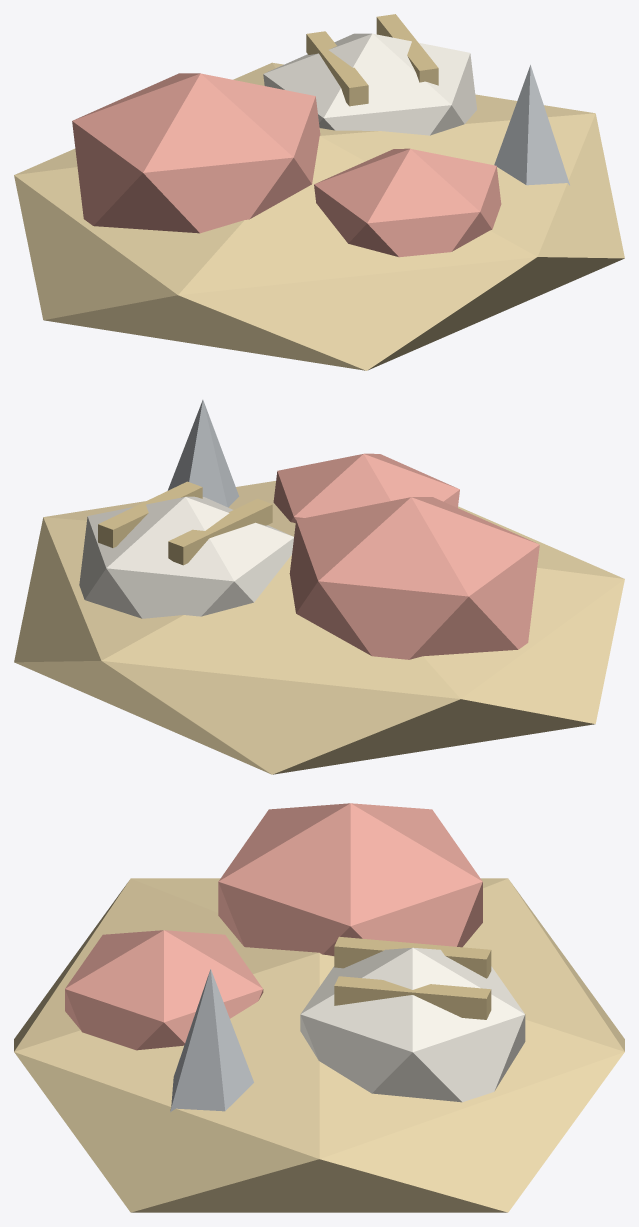
File: shell_cluster.glb
3 views of the same model, one above another, from view 1: azimuth 30°, elevation 25°; view 2: azimuth 150°, elevation 25°; view 3: azimuth 270°, elevation 25° (orthographic). The views are drawn at different scales.
Visible parts, largest first — view 1: sand, shell_0, shell_2, shell_1, spire, ridge_1_0, ridge_1_1; view 2: sand, shell_0, shell_1, shell_2, spire, ridge_1_0, ridge_1_1; view 3: sand, shell_0, shell_1, shell_2, spire, ridge_1_1, ridge_1_0.
Part boxes in pixels (<box>): sand: <box>14,62,624,370</box>; shell_0: <box>72,73,320,233</box>; shell_2: <box>314,148,501,257</box>; shell_1: <box>263,33,476,135</box>; spire: <box>494,65,569,185</box>; ridge_1_0: <box>306,31,368,106</box>; ridge_1_1: <box>376,14,438,85</box>; sand: <box>14,481,624,774</box>; shell_0: <box>289,497,539,659</box>; shell_1: <box>79,496,293,618</box>; shell_2: <box>273,453,459,522</box>; spire: <box>167,400,239,507</box>; ridge_1_0: <box>168,498,272,565</box>; ridge_1_1: <box>98,481,202,547</box>; sand: <box>14,878,624,1212</box>; shell_0: <box>218,803,482,955</box>; shell_1: <box>300,947,525,1102</box>; shell_2: <box>65,930,263,1050</box>; spire: <box>170,969,253,1112</box>; ridge_1_1: <box>334,976,491,1019</box>; ridge_1_0: <box>334,936,491,978</box>.
Size of the model in its own units: 0.9445 by 0.392 by 0.786.
